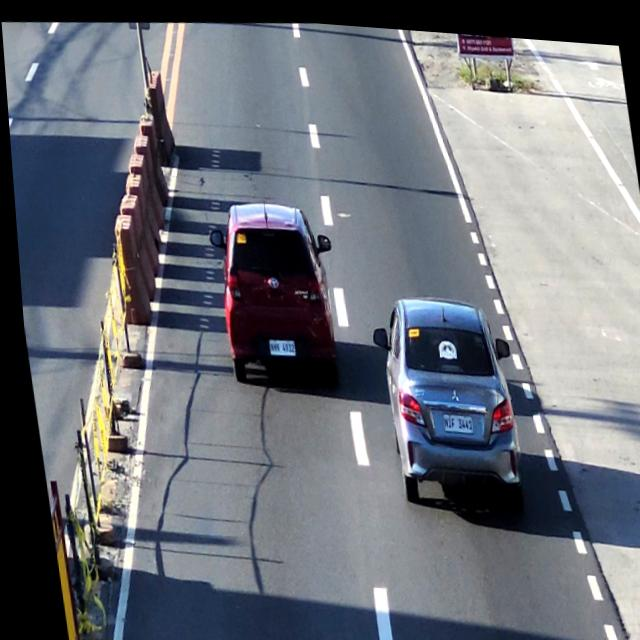Car: (366, 281, 524, 512), (207, 192, 338, 395)
License-Plate: (260, 328, 295, 360), (438, 404, 469, 429)
